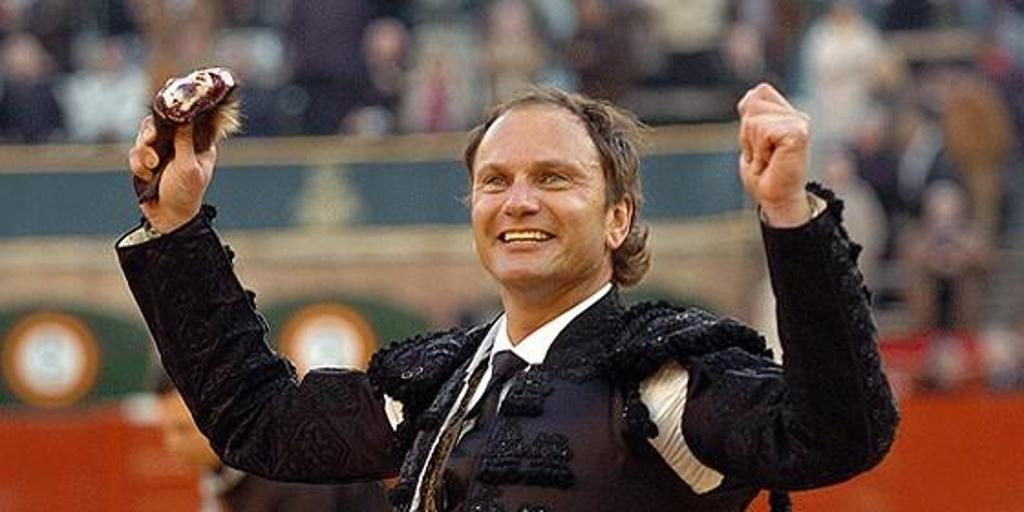face: (471, 131, 599, 281)
